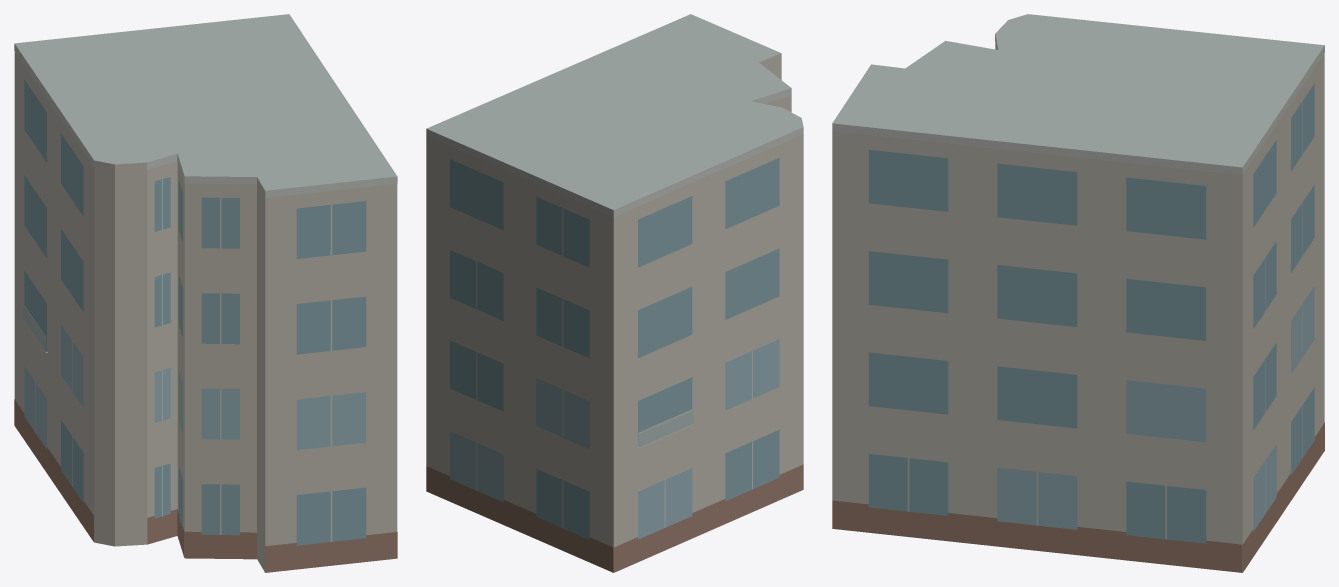
File: survey-upis-32513332.glb
The picture shows the model from 3 angles, left to right: view 1: azimuth 30°, elevation 25°; view 2: azimuth 150°, elevation 25°; view 3: azimuth 270°, elevation 25°; orthographic projection. The views are drawn at different scales.
Visible parts, largest first — view 1: survey-upis-32513332.tmp; view 2: survey-upis-32513332.tmp; view 3: survey-upis-32513332.tmp.
Boxes of the visible parts, bbox=[...] form: survey-upis-32513332.tmp: bbox=[14, 14, 397, 572]; survey-upis-32513332.tmp: bbox=[426, 14, 803, 572]; survey-upis-32513332.tmp: bbox=[832, 14, 1324, 572].
Size of the model in its own units: 10.4 by 12.8 by 14.1.
